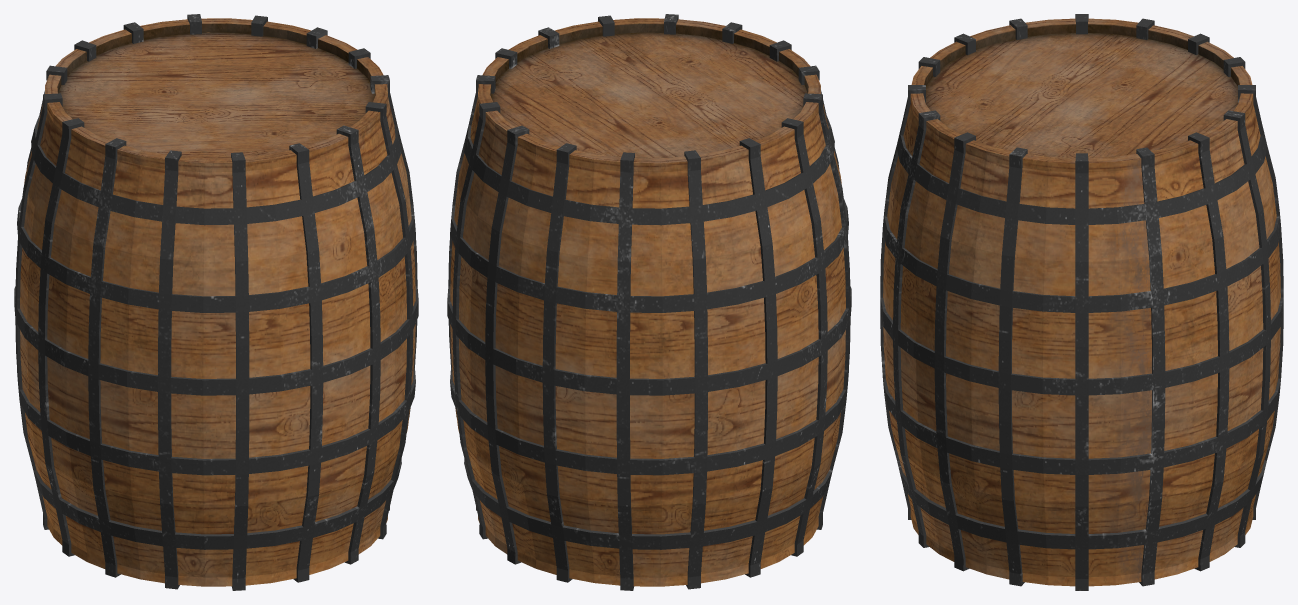
File: barrel.fbx
3 views of the same model, side by side, from view 1: azimuth 30°, elevation 25°; view 2: azimuth 150°, elevation 25°; view 3: azimuth 270°, elevation 25° (orthographic).
Parts seen in each view (by area): view 1: Cylinder; view 2: Cylinder; view 3: Cylinder.
Part boxes in pixels (<box>): Cylinder: <box>14,14,418,590</box>; Cylinder: <box>447,14,851,590</box>; Cylinder: <box>880,14,1283,590</box>.
Bounding box in the file's own units: 235 × 276 × 235.
Materials: 2 (2 with a texture image).
